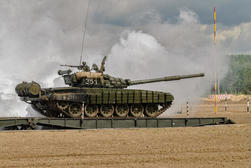t72: (16, 65, 205, 118)
